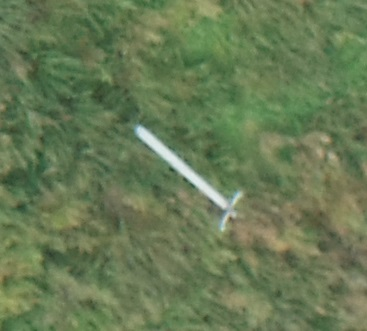opora: (132, 122, 246, 233)
